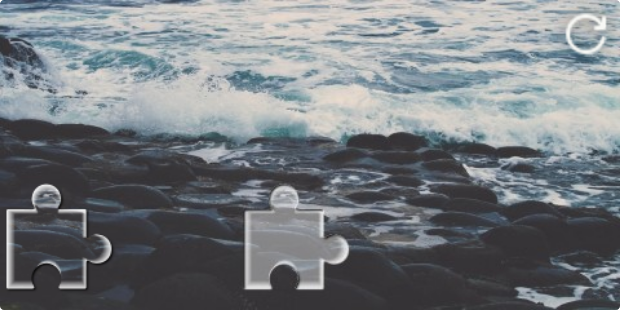target: (244, 185, 350, 290)
